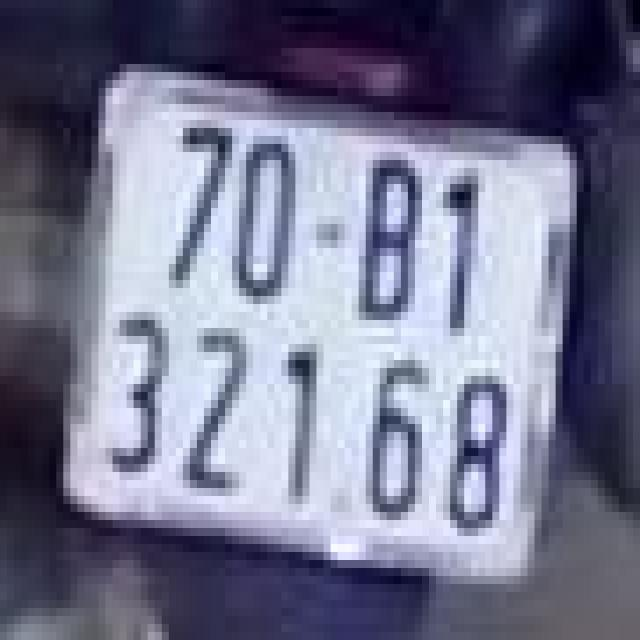0: (232, 112, 310, 312)
1: (281, 328, 338, 528), (429, 160, 485, 344)
2: (186, 304, 257, 512)
3: (88, 308, 179, 492)
6: (369, 356, 433, 540)
7: (165, 100, 236, 308)
8: (439, 360, 517, 560)
B: (355, 136, 433, 344)
